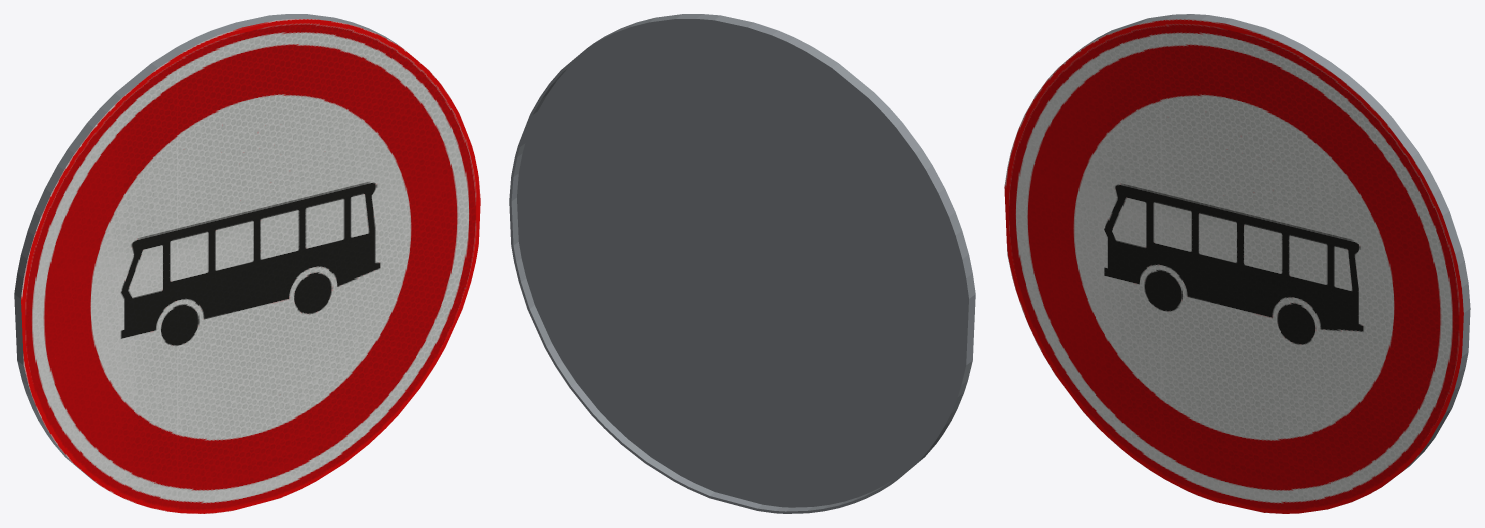
3 views of the same model, side by side, from view 1: azimuth 30°, elevation 25°; view 2: azimuth 150°, elevation 25°; view 3: azimuth 330°, elevation 25° (orthographic).
Parts seen in each view (by area): view 1: cat_d3f0b2f3db1e8139; view 2: cat_d3f0b2f3db1e8139; view 3: cat_d3f0b2f3db1e8139.
Boxes of the visible parts, x1,y1,x2,y2 form: cat_d3f0b2f3db1e8139: (14,14,480,513); cat_d3f0b2f3db1e8139: (509,14,975,513); cat_d3f0b2f3db1e8139: (1004,14,1470,513).
Size of the model in its own units: 0.6 by 0.015 by 0.6.
Materials: 2 (1 with a texture image).
